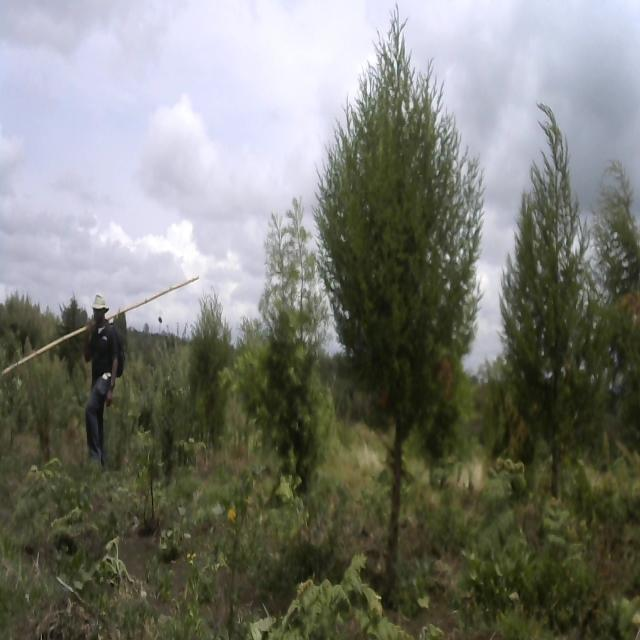Juniperus procesera: (319, 11, 484, 622), (499, 68, 607, 542), (190, 285, 233, 423), (55, 298, 88, 373)
Podocarpus falcatus: (238, 171, 332, 503)
